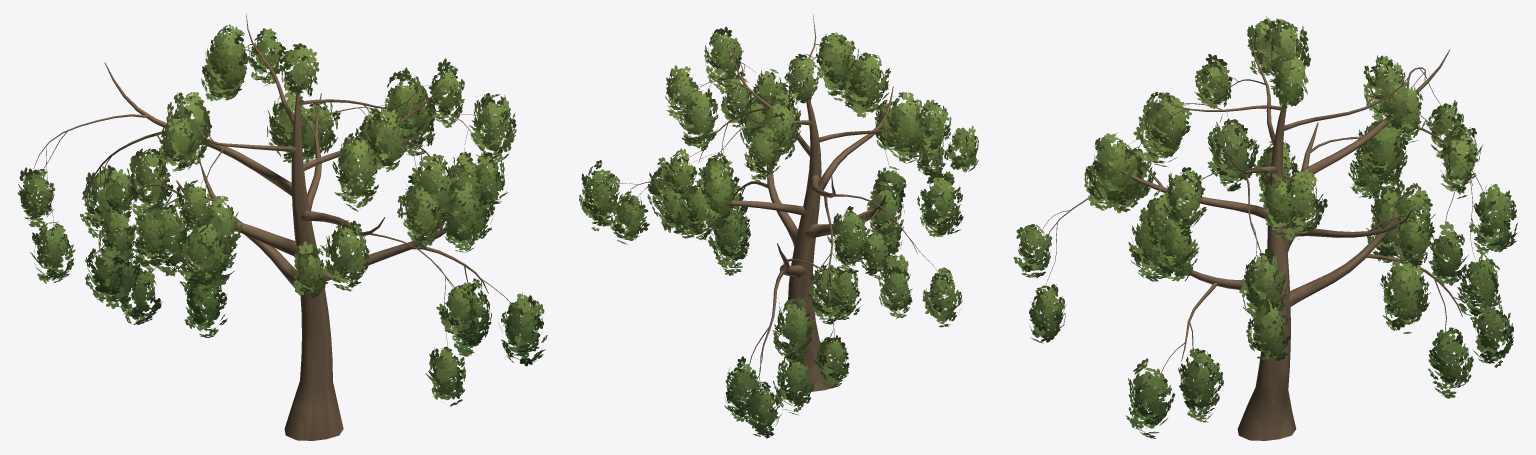
Rendered from tree.gltf.
The picture shows the model from 3 angles, left to right: view 1: azimuth 30°, elevation 25°; view 2: azimuth 150°, elevation 25°; view 3: azimuth 270°, elevation 25°; orthographic projection. The views are drawn at different scales.
Visible parts, largest first — view 1: Tree_LOD0; view 2: Tree_LOD0; view 3: Tree_LOD0.
Part boxes in pixels (x1,y1,x2,y2): Tree_LOD0: [17, 14, 547, 440]; Tree_LOD0: [579, 14, 978, 438]; Tree_LOD0: [1013, 15, 1517, 440].
Bounding box in the file's own units: 19.84 × 17.13 × 21.22.
2 materials, 2 textured.
